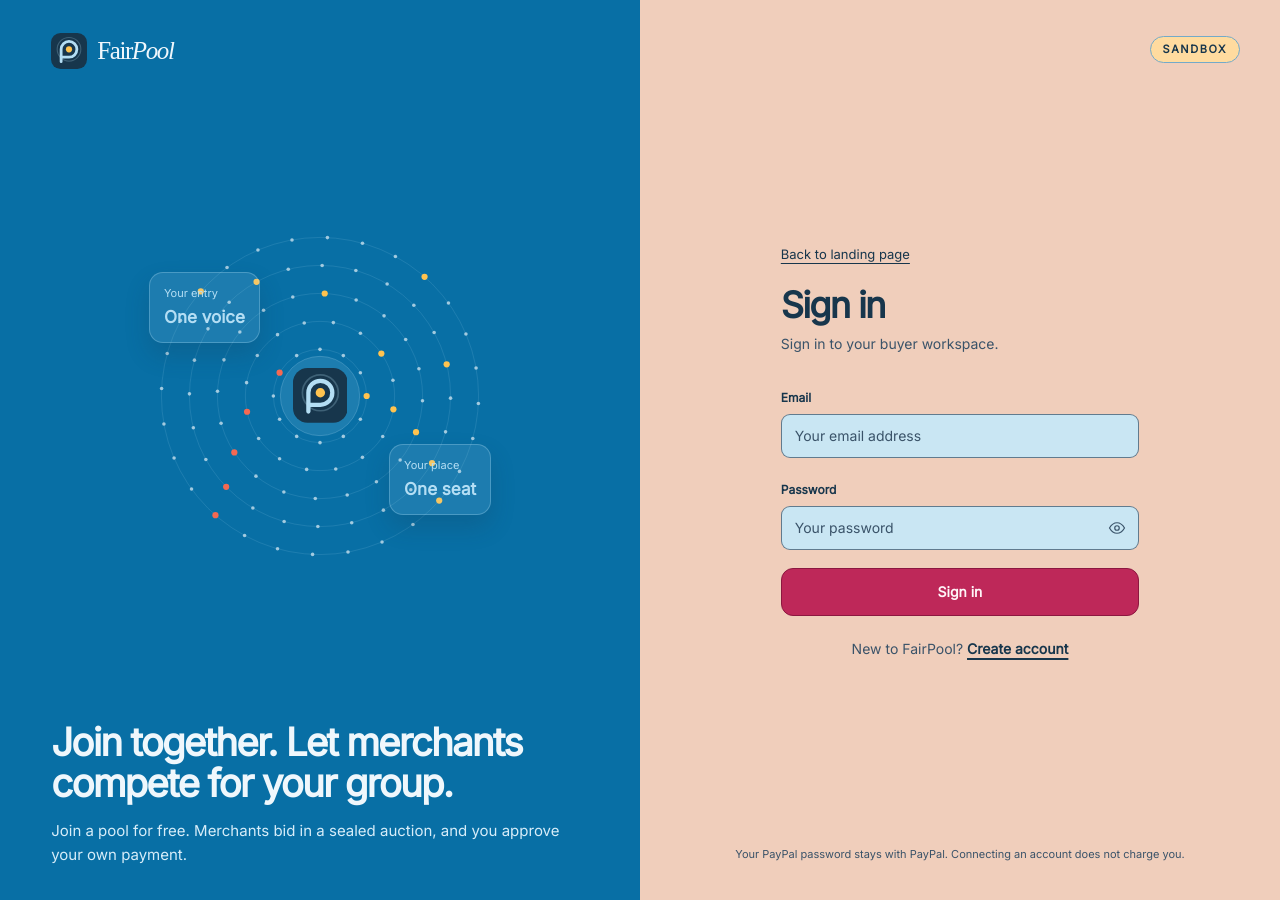
it: returns from /login to landing
Click the link "Back to landing page".
click(845, 254)  # box [781,246,910,262]
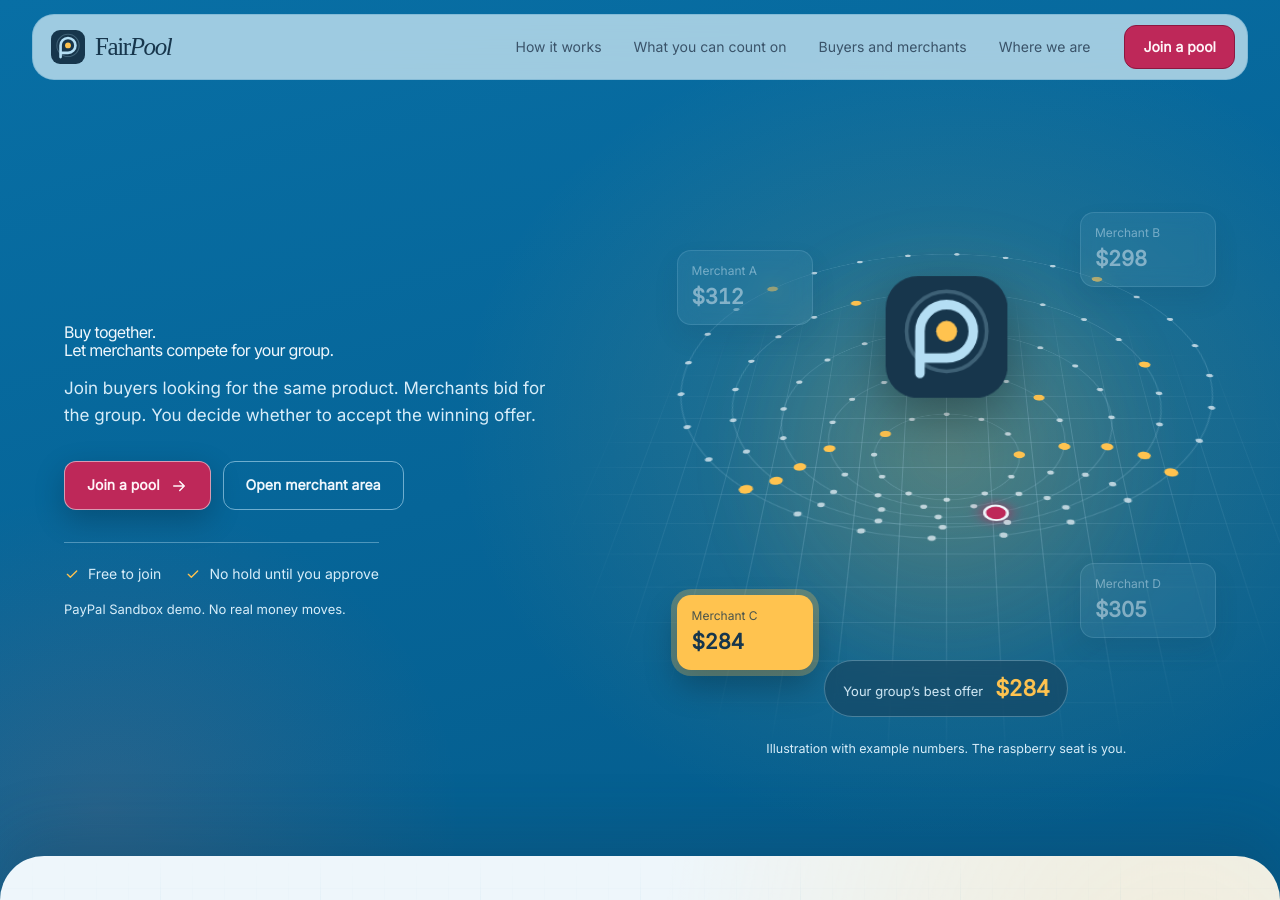
expect the heading "Buy together. Let merchants compete for your group." is shown: met, box [64,322,333,360]
